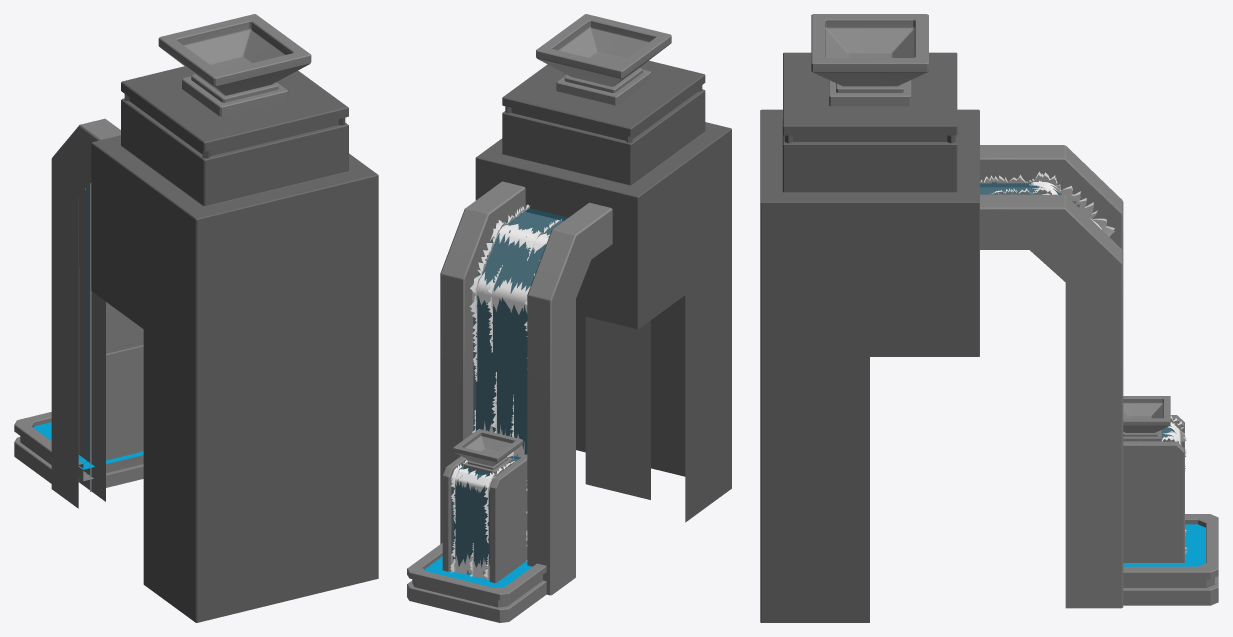
Rendered from Shop_Tower.fbx.
3 views of the same model, side by side, from view 1: azimuth 30°, elevation 25°; view 2: azimuth 150°, elevation 25°; view 3: azimuth 270°, elevation 25° (orthographic). The views are drawn at different scales.
Parts seen in each view (by area): view 1: Shop_Tower, Shop_FirePit_Top, Shop_Water; view 2: Shop_Tower, Shop_Water, Shop_FirePit_Top, Edges_Side, Edge_Slow, Shop_FirePit_Bottom, Edge_Fast; view 3: Shop_Tower, Shop_FirePit_Top, Shop_FirePit_Bottom, Shop_Water, Edges_Side.
Boxes of the visible parts, box(x1,y1,x2,y2) form: Shop_Tower: box(14, 66, 378, 622); Shop_FirePit_Top: box(158, 14, 311, 116); Shop_Water: box(33, 186, 143, 474); Shop_Tower: box(407, 60, 731, 622); Shop_Water: box(424, 207, 567, 587); Shop_FirePit_Top: box(536, 14, 671, 105); Edges_Side: box(450, 204, 562, 579); Edge_Slow: box(451, 223, 549, 579); Shop_FirePit_Bottom: box(453, 429, 523, 476); Edge_Fast: box(451, 224, 548, 579); Shop_Tower: box(760, 52, 1218, 622); Shop_FirePit_Top: box(811, 14, 928, 106); Shop_FirePit_Bottom: box(1123, 396, 1170, 441); Shop_Water: box(980, 182, 1205, 566); Edges_Side: box(980, 171, 1186, 557).
Size of the model in its own units: 3.75 by 10.11 by 7.81.
